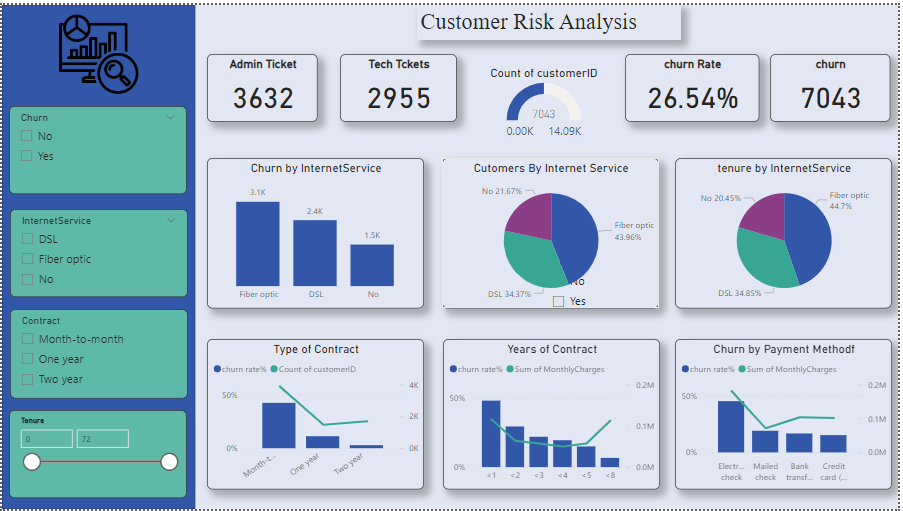

What the dashboard file says about the page in this screenshot:
{"tool":"powerbi","page":{"name":"Page 2","canvas":[1280,720],"ordinal":1},"visuals":[{"type":"textbox","box":[593.3,0,376.7,50],"z":0},{"type":"slicer","fields":{"Values":["01 Churn-Dataset.Churn"]},"box":[774,356,276,154],"z":1000},{"type":"slicer","fields":{"Values":["01 Churn-Dataset.tenure"]},"box":[0,592,276,100],"z":2000},{"type":"card","title":"churn","fields":{"Values":["CountNonNull(01 Churn-Dataset.Churn)"]},"box":[1096.7,70,171.7,96.7],"z":3000},{"type":"gauge","fields":{"Y":["CountNonNull(01 Churn-Dataset.customerID)"]},"box":[670,86.7,208.3,113.3],"z":4000},{"type":"card","title":"Tech Tckets","fields":{"Values":["Sum(01 Churn-Dataset.numTechTickets)"]},"box":[483.3,70,166.7,96.7],"z":5000},{"type":"card","title":"Admin Ticket","fields":{"Values":["Sum(01 Churn-Dataset.numAdminTickets)"]},"box":[293.3,70,158.3,96.7],"z":6000},{"type":"card","title":"churn Rate","fields":{"Values":["01 Churn-Dataset.churn rate%"]},"box":[890,70,191.7,96.7],"z":7000},{"type":"clusteredColumnChart","title":"Churn by InternetService","fields":{"Y":["CountNonNull(01 Churn-Dataset.Churn)"],"Category":["01 Churn-Dataset.InternetService"]},"box":[293.3,218.3,310,215],"z":8000},{"type":"pieChart","title":"Cutomers By Internet Service","fields":{"Category":["01 Churn-Dataset.InternetService"],"Y":["CountNonNull(01 Churn-Dataset.customerID)"]},"box":[628.3,218.3,310,215],"z":9000},{"type":"pieChart","title":"tenure by InternetService","fields":{"Y":["Sum(01 Churn-Dataset.tenure)"],"Category":["01 Churn-Dataset.InternetService"]},"box":[961.7,218.3,310,215],"z":10000},{"type":"lineStackedColumnComboChart","title":"Type of Contract","fields":{"Category":["01 Churn-Dataset.Contract"],"Y":["01 Churn-Dataset.churn rate%"],"Y2":["CountNonNull(01 Churn-Dataset.customerID)"]},"box":[293.3,476.7,310,215],"z":11000},{"type":"lineStackedColumnComboChart","title":"Years of Contract","fields":{"Category":["01 Churn-Dataset.subscription"],"Y":["01 Churn-Dataset.churn rate%"],"Y2":["Sum(01 Churn-Dataset.MonthlyCharges)"]},"box":[630,476.7,310,215],"z":12000},{"type":"lineStackedColumnComboChart","title":"Churn by Payment Methodf","fields":{"Category":["01 Churn-Dataset.PaymentMethod"],"Y":["01 Churn-Dataset.churn rate%"],"Y2":["Sum(01 Churn-Dataset.MonthlyCharges)"]},"box":[961.7,476.7,310,215],"z":13000},{"type":"shape","box":[0,0,276,720],"z":14000},{"type":"slicer","fields":{"Values":["01 Churn-Dataset.InternetService"]},"box":[11.2,291.2,253.8,126.2],"z":15000},{"type":"slicer","fields":{"Values":["01 Churn-Dataset.Contract"]},"box":[11.2,433.8,253.8,127.5],"z":16000},{"type":"slicer","fields":{"Values":["01 Churn-Dataset.tenure"]},"box":[10,578.8,253.8,126.2],"z":17000},{"type":"slicer","fields":{"Values":["01 Churn-Dataset.Churn"]},"box":[10,143.8,253.8,126.2],"z":17001},{"type":"image","box":[26.2,2.5,225,135],"z":17002}]}

Visuals, with their boxes in screenshot pixels (x1, y1, x2, y2), scaled from the page's 1280x720 canvas onto the 903x511 screenshot:
textbox: bbox=(419, 0, 684, 35)
slicer - 01 Churn-Dataset.Churn: bbox=(546, 253, 741, 362)
slicer - 01 Churn-Dataset.tenure: bbox=(0, 420, 195, 491)
"churn" card: bbox=(774, 50, 895, 118)
gauge - CountNonNull(01 Churn-Dataset.customerID): bbox=(473, 62, 620, 142)
"Tech Tckets" card: bbox=(341, 50, 459, 118)
"Admin Ticket" card: bbox=(207, 50, 319, 118)
"churn Rate" card: bbox=(628, 50, 763, 118)
"Churn by InternetService" clusteredColumnChart: bbox=(207, 155, 426, 308)
"Cutomers By Internet Service" pieChart: bbox=(443, 155, 662, 308)
"tenure by InternetService" pieChart: bbox=(678, 155, 897, 308)
"Type of Contract" lineStackedColumnComboChart: bbox=(207, 338, 426, 491)
"Years of Contract" lineStackedColumnComboChart: bbox=(444, 338, 663, 491)
"Churn by Payment Methodf" lineStackedColumnComboChart: bbox=(678, 338, 897, 491)
shape: bbox=(0, 0, 195, 510)
slicer - 01 Churn-Dataset.InternetService: bbox=(8, 207, 187, 296)
slicer - 01 Churn-Dataset.Contract: bbox=(8, 308, 187, 398)
slicer - 01 Churn-Dataset.tenure: bbox=(7, 411, 186, 500)
slicer - 01 Churn-Dataset.Churn: bbox=(7, 102, 186, 192)
image: bbox=(18, 2, 177, 98)
